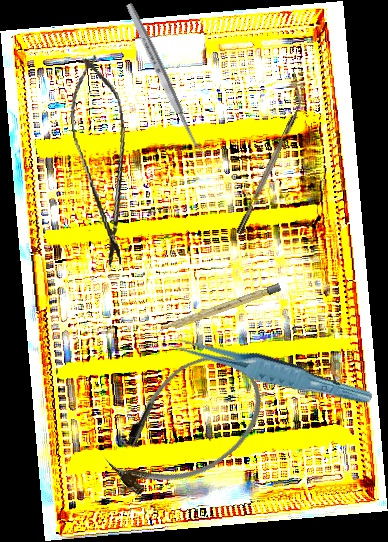Cannula: (89, 336, 281, 517)
Chopper: (229, 91, 308, 236)
Micro Scissor: (61, 48, 145, 274)
Scalpel Handle: (156, 283, 282, 335)
Surgical Spoon: (123, 1, 206, 160)
Tissue Forceps: (166, 319, 374, 420)
